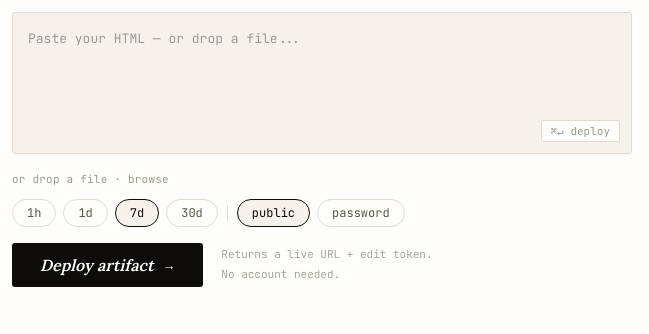
Test: DeployPanel › shows a mapped inline error on API failure
Type "<h1>big</h1>" into the text box with placeholder "Paste your HTML — or drop a file..." at [322, 83], box x1=13 y1=13 x2=631 y2=153
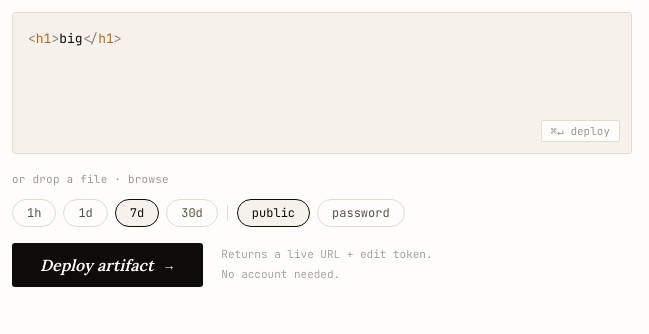
Click the button "Deploy artifact →" at [108, 265], box x1=12 y1=243 x2=203 y2=287
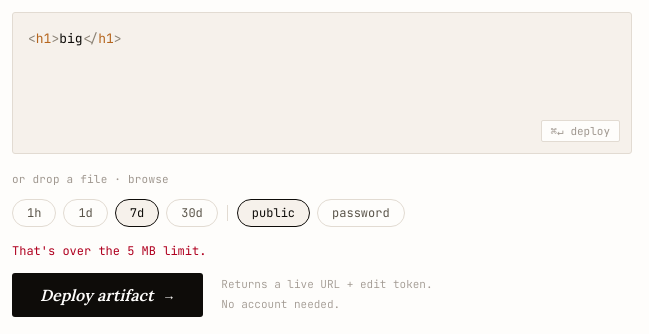
Result: the text "That's over the 5 MB limit." is shown at x1=12 y1=243 x2=206 y2=259
